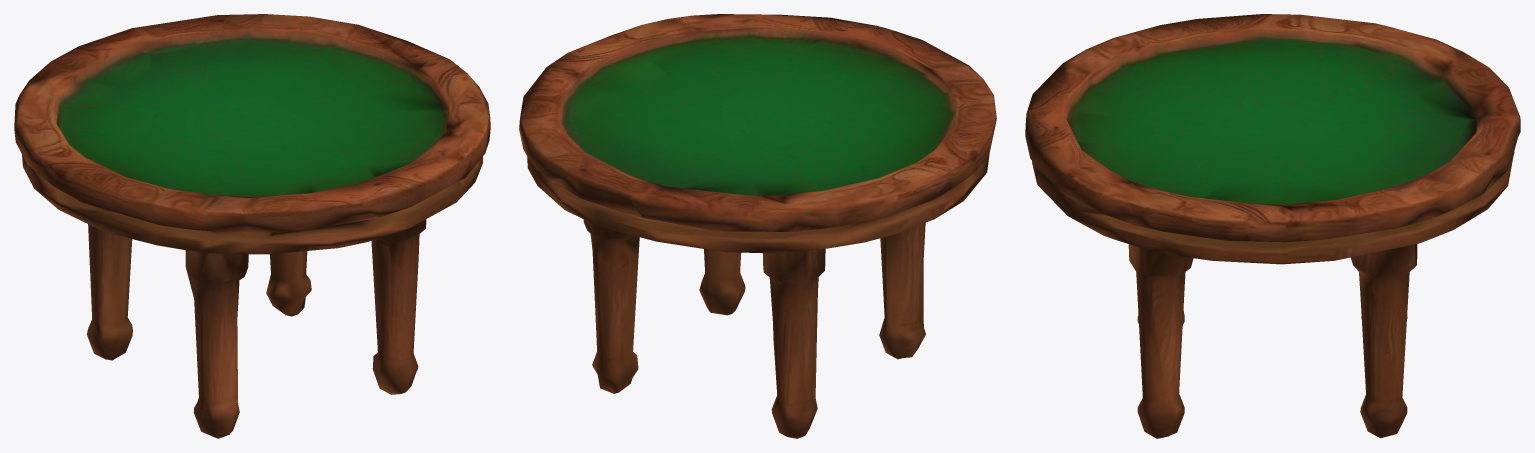
The model's file is 圆形桌子.glb.
The picture shows the model from 3 angles, left to right: view 1: azimuth 30°, elevation 25°; view 2: azimuth 150°, elevation 25°; view 3: azimuth 270°, elevation 25°; orthographic projection. The views are drawn at different scales.
Visible parts, largest first — view 1: tripo_node_09aa0353-a576-405a-928b-f824fb81540b; view 2: tripo_node_09aa0353-a576-405a-928b-f824fb81540b; view 3: tripo_node_09aa0353-a576-405a-928b-f824fb81540b.
Boxes of the visible parts, box(x1,y1,x2,y2) form: tripo_node_09aa0353-a576-405a-928b-f824fb81540b: box(14, 14, 490, 438); tripo_node_09aa0353-a576-405a-928b-f824fb81540b: box(519, 14, 996, 438); tripo_node_09aa0353-a576-405a-928b-f824fb81540b: box(1025, 14, 1520, 438).
Bounding box in the file's own units: 0.9964 × 0.6128 × 0.9992.
Materials: 1 (1 with a texture image).
